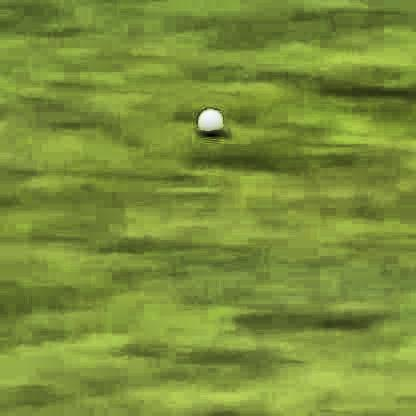golfball: (194, 104, 219, 134)
